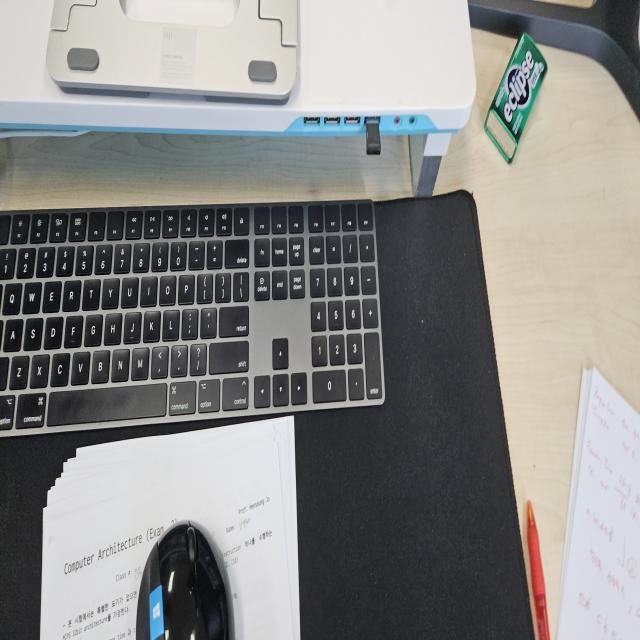Keyboard: (1, 198, 386, 436)
Mouse: (134, 518, 232, 637)
